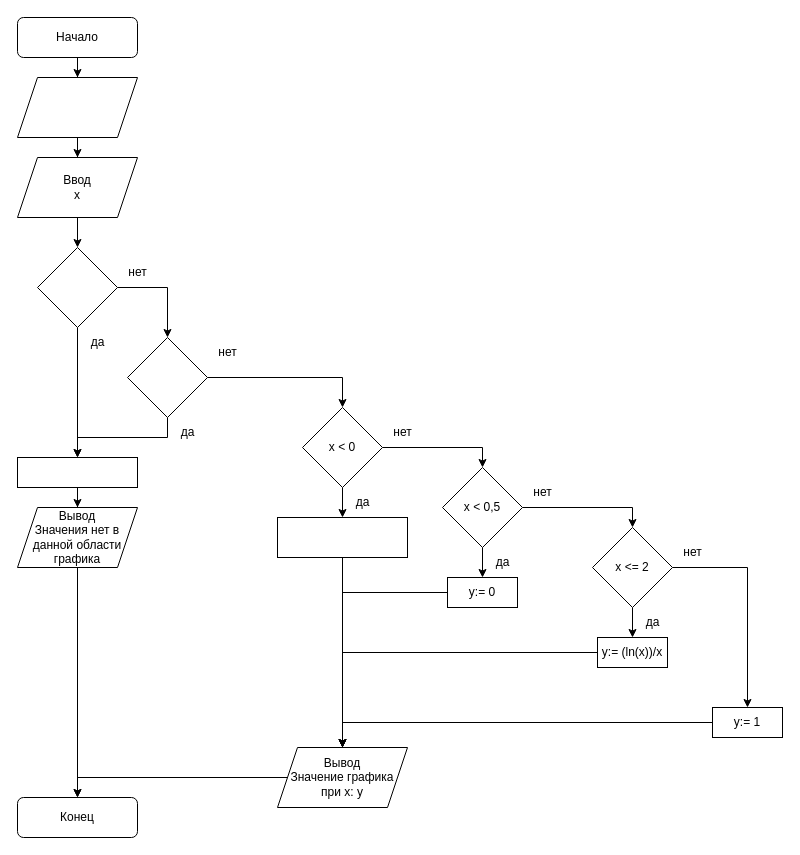
Image size: 800x855. Some labels were removed from this diagram. The centre of each missing label's shape, as x and y in pixels:
x < -4: point (167, 377)
x >4: point (77, 287)
y: = "Нет значения": point (77, 472)
y:= (4 - (x+2)**2 )**0.5: point (342, 537)
Вывод Введите x:: point (77, 107)
